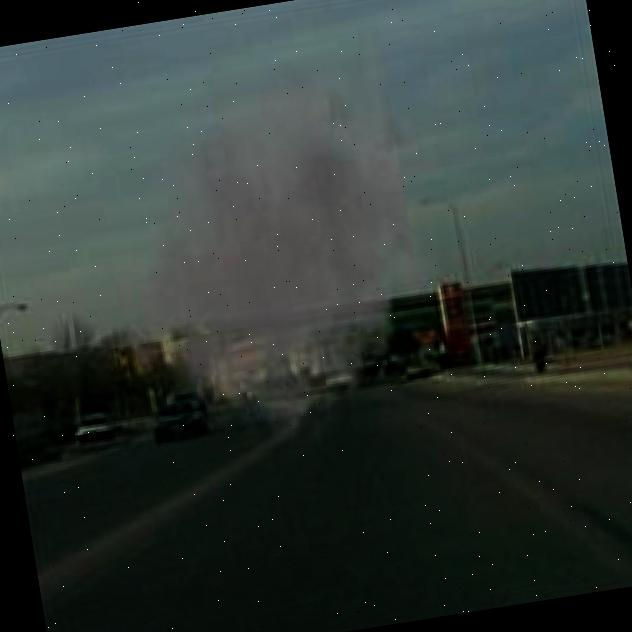smoke: (68, 9, 474, 479)
